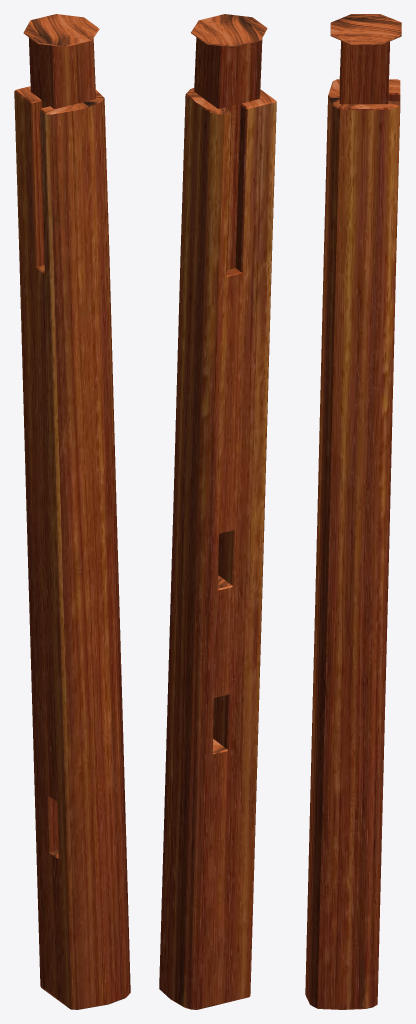
Rendered from GMY_J_houtui_01.FBX.
The picture shows the model from 3 angles, left to right: view 1: azimuth 30°, elevation 25°; view 2: azimuth 210°, elevation 25°; view 3: azimuth 270°, elevation 25°; orthographic projection.
Parts seen in each view (by area): view 1: GMY_J_houtui_01; view 2: GMY_J_houtui_01; view 3: GMY_J_houtui_01.
Part boxes in pixels (<box>): GMY_J_houtui_01: <box>14,14,130,1009</box>; GMY_J_houtui_01: <box>159,14,276,1009</box>; GMY_J_houtui_01: <box>305,14,401,1009</box>.
Size of the model in its own units: 4.48 by 52.54 by 4.78.
